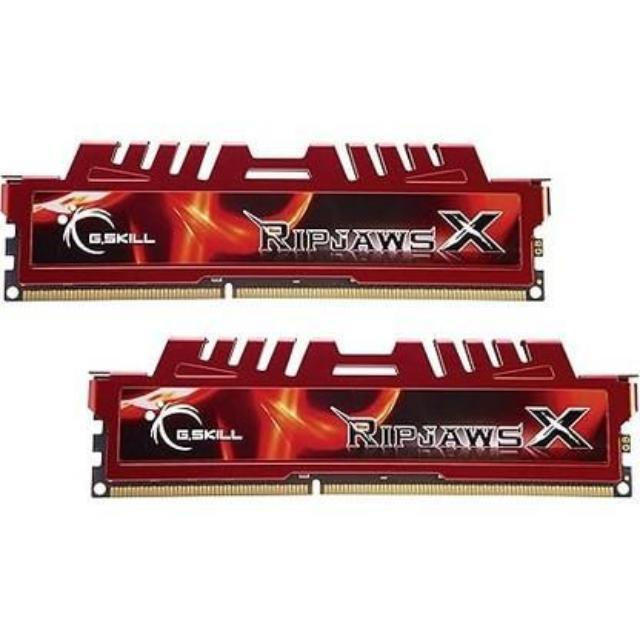RAM: (84, 331, 639, 514), (0, 126, 552, 309)
